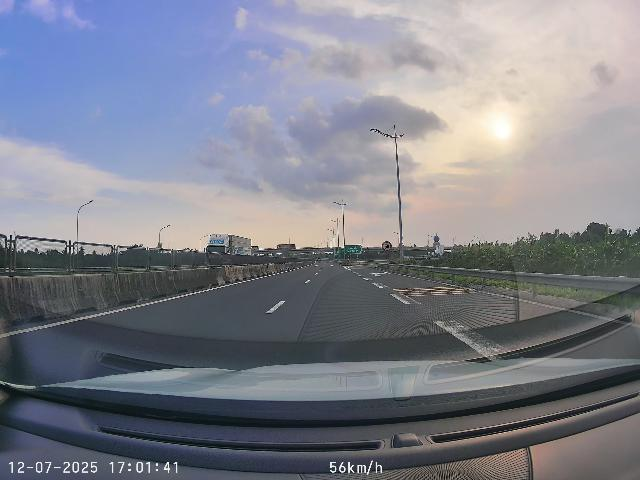127-toc-do-toi-da-50: (382, 241, 392, 252)
